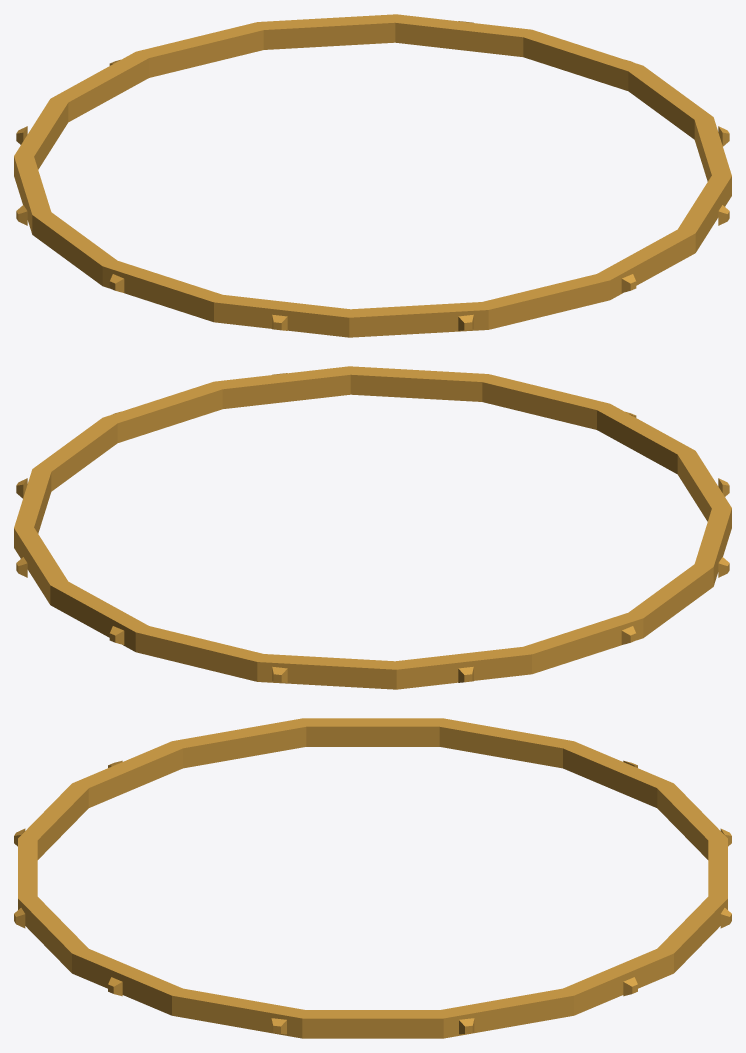
File: CannonKit3.obj
3 renders of one model, top to bottom at view 1: azimuth 30°, elevation 25°; view 2: azimuth 150°, elevation 25°; view 3: azimuth 270°, elevation 25°, orthographic.
Visible parts, largest first — view 1: CannonKit3; view 2: CannonKit3; view 3: CannonKit3.
Boxes of the visible parts, box(x1,y1,x2,y2) form: CannonKit3: box(14, 14, 731, 337); CannonKit3: box(14, 366, 731, 689); CannonKit3: box(14, 718, 731, 1038).
Size of the model in its own units: 1.13 by 0.035 by 1.13.
